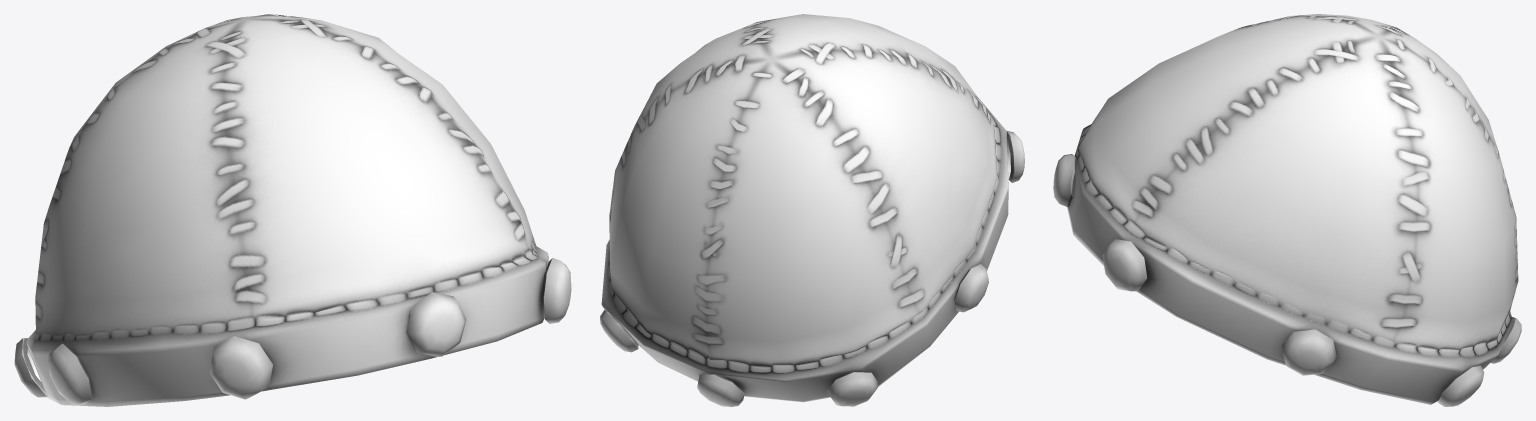
Rendered from 044_a_leather_cap.fbx.
3 renders of one model, left to right at view 1: azimuth 30°, elevation 25°; view 2: azimuth 150°, elevation 25°; view 3: azimuth 270°, elevation 25°, orthographic. The views are drawn at different scales.
Visible parts, largest first — view 1: 044_a_leather_cap; view 2: 044_a_leather_cap; view 3: 044_a_leather_cap.
Boxes of the visible parts, x1,y1,x2,y2 form: 044_a_leather_cap: (14, 14, 571, 406); 044_a_leather_cap: (600, 14, 1024, 406); 044_a_leather_cap: (1053, 14, 1521, 406).
Bounding box in the file's own units: 28.74 × 23.98 × 30.41.
